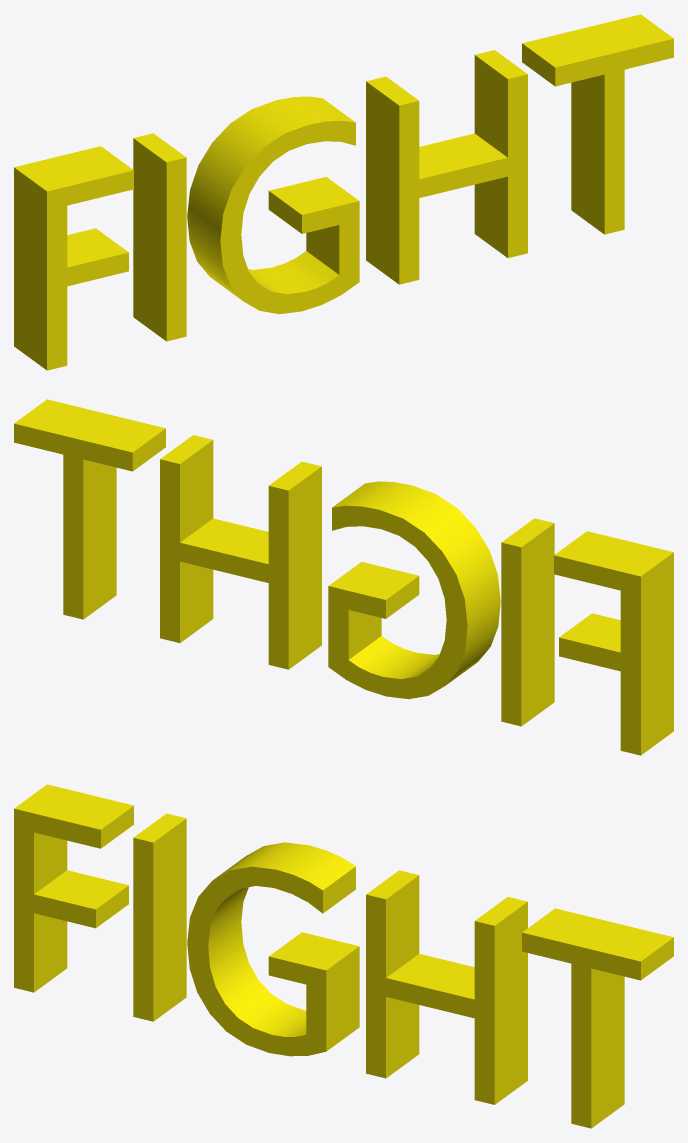
Rendered from fıght.fbx.
3 views of the same model, one above another, from view 1: azimuth 30°, elevation 25°; view 2: azimuth 150°, elevation 25°; view 3: azimuth 330°, elevation 25° (orthographic).
Parts seen in each view (by area): view 1: node_id43; view 2: node_id43; view 3: node_id43.
Part boxes in pixels (bbox=[...]): node_id43: bbox=[14, 14, 673, 370]; node_id43: bbox=[14, 399, 673, 755]; node_id43: bbox=[14, 784, 673, 1128].
Bounding box in the file's own units: 0.1637 × 0.0462 × 0.015.
